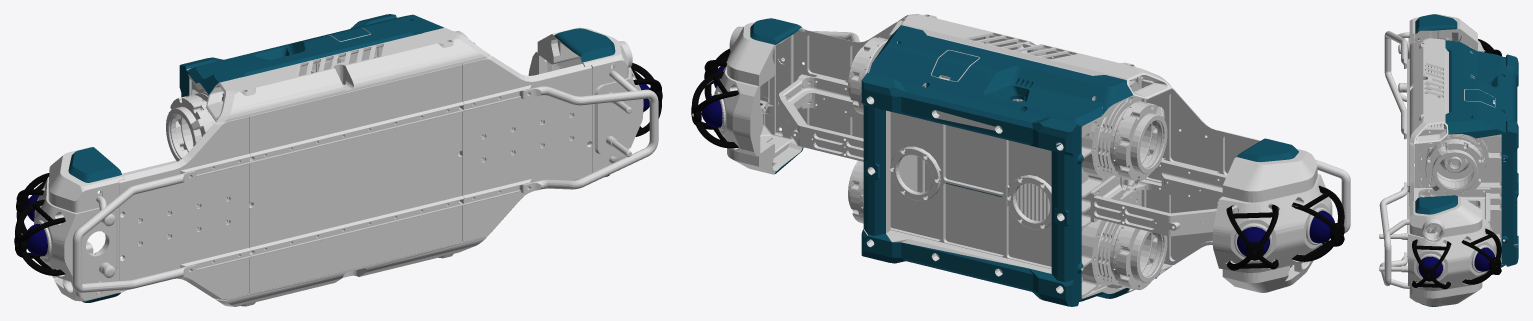
File: torso.obj
3 renders of one model, left to right at view 1: azimuth 30°, elevation 25°; view 2: azimuth 150°, elevation 25°; view 3: azimuth 270°, elevation 25°, orthographic. The views are drawn at different scales.
Parts seen in each view (by area): view 1: torso; view 2: torso; view 3: torso.
Boxes of the visible parts, bbox=[...] form: torso: bbox=[14, 14, 662, 306]; torso: bbox=[691, 14, 1350, 306]; torso: bbox=[1379, 14, 1518, 306].
Size of the model in its own units: 0.9799 by 0.315 by 0.2489.
